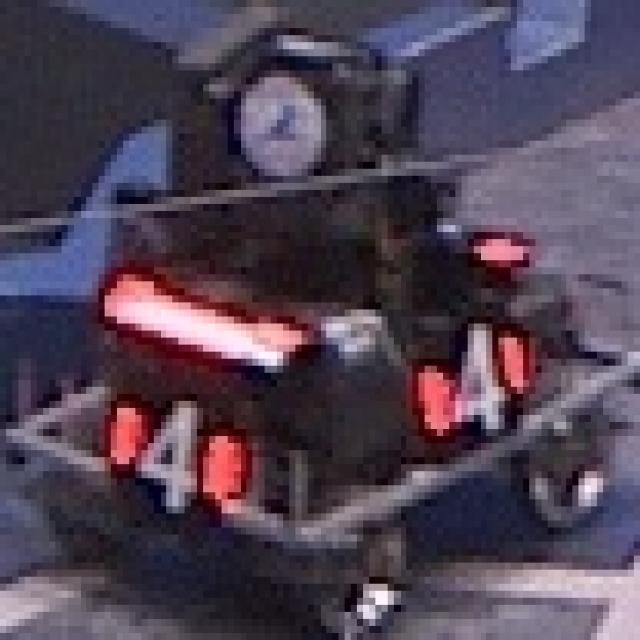R4: (98, 387, 234, 506), (412, 316, 523, 429)
